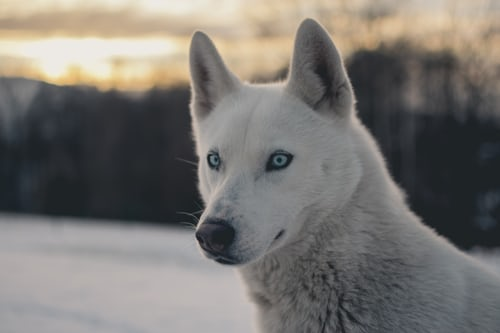husky: (167, 12, 393, 276)
